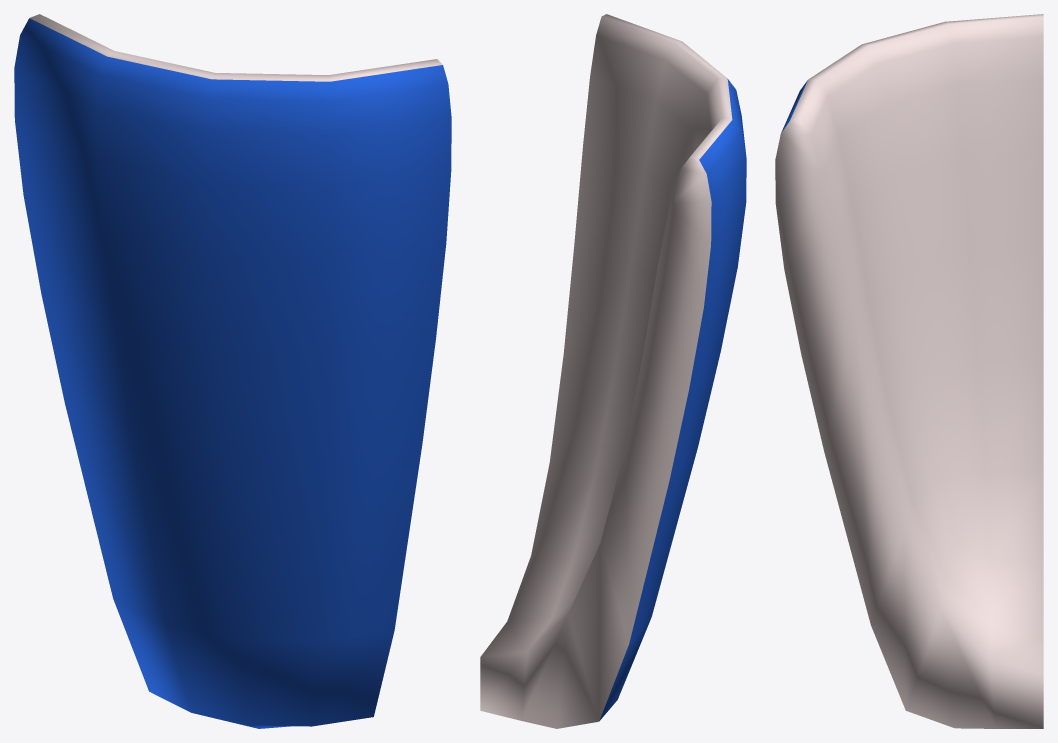
The model's file is Cup01_Part03.fbx.
3 renders of one model, left to right at view 1: azimuth 30°, elevation 25°; view 2: azimuth 150°, elevation 25°; view 3: azimuth 270°, elevation 25°, orthographic. The views are drawn at different scales.
Visible parts, largest first — view 1: Cup01_Part_03; view 2: Cup01_Part_03; view 3: Cup01_Part_03.
Boxes of the visible parts, left/top/right/bottom form: Cup01_Part_03: left=14, top=14, right=451, bottom=728; Cup01_Part_03: left=480, top=14, right=746, bottom=728; Cup01_Part_03: left=775, top=14, right=1043, bottom=728.
Size of the model in its own units: 157 by 392 by 157.
